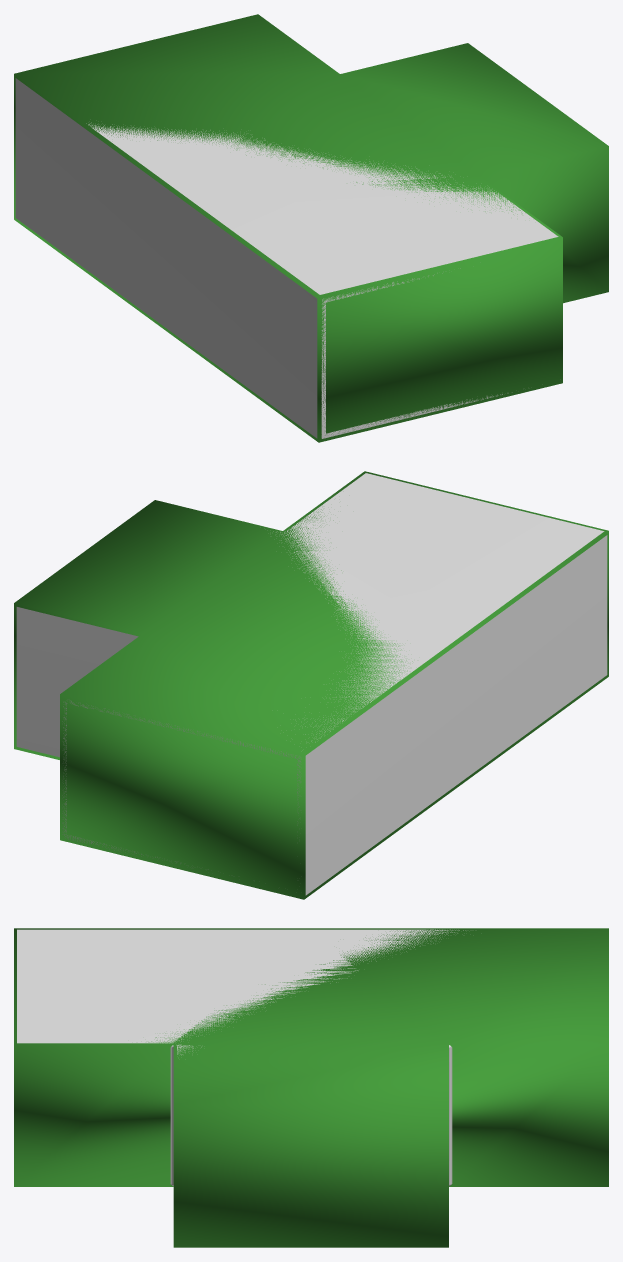
File: DuctJointHorizontal_01_Mesh.fbx
3 renders of one model, top to bottom at view 1: azimuth 30°, elevation 25°; view 2: azimuth 150°, elevation 25°; view 3: azimuth 270°, elevation 25°, orthographic. The views are drawn at different scales.
Parts seen in each view (by area): view 1: Duct_TJointHorizontal_01_Col, Duct_TJointHorizontal_01_LOD0; view 2: Duct_TJointHorizontal_01_Col, Duct_TJointHorizontal_01_LOD0; view 3: Duct_TJointHorizontal_01_Col, Duct_TJointHorizontal_01_LOD0.
Boxes of the visible parts, x1,y1,x2,y2 form: Duct_TJointHorizontal_01_Col: (14,14,608,442); Duct_TJointHorizontal_01_LOD0: (15,78,558,438); Duct_TJointHorizontal_01_Col: (14,471,608,899); Duct_TJointHorizontal_01_LOD0: (16,473,607,895); Duct_TJointHorizontal_01_Col: (14,928,608,1247); Duct_TJointHorizontal_01_LOD0: (17,929,465,1186).
Size of what is drawn, in the model's own units: 107 by 39.97 by 151.
